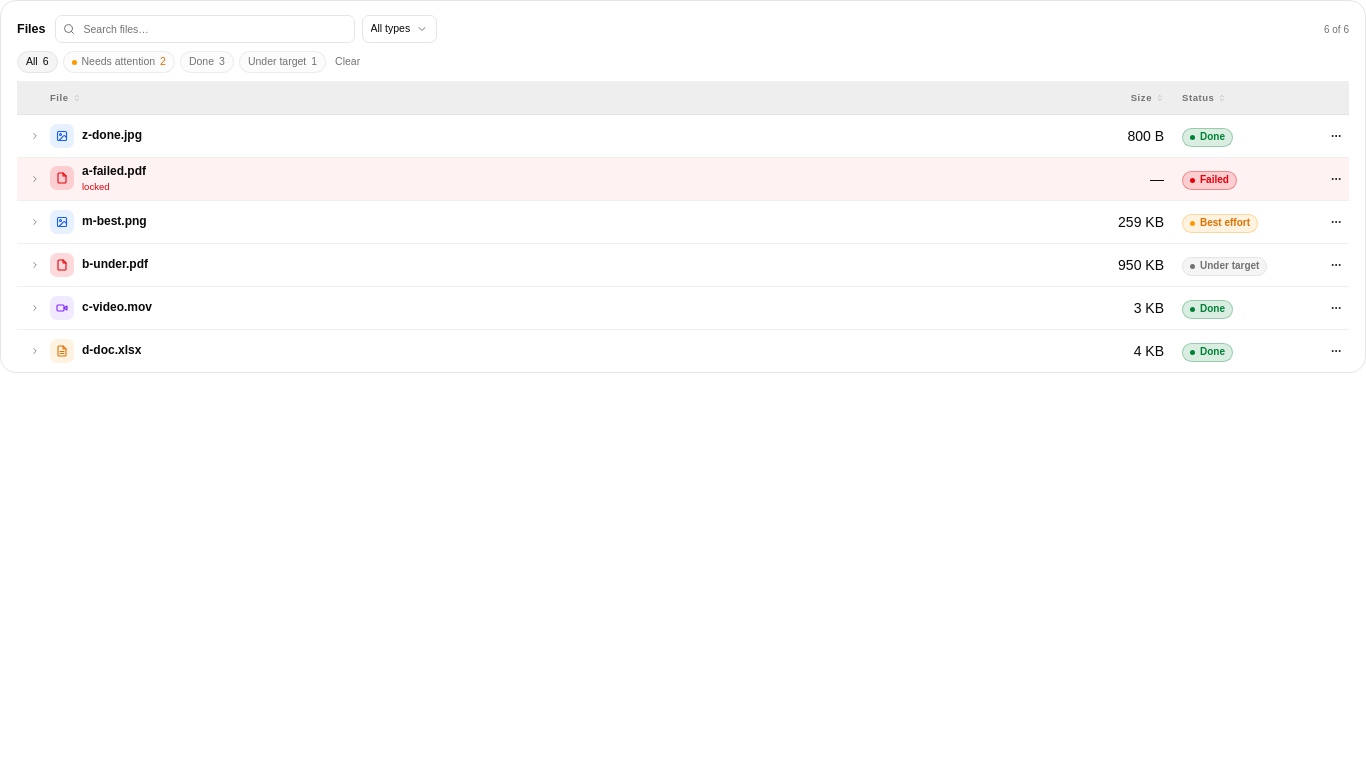
it: HistoryFilesTable › keeps failed reveal in the row menu and disables compressed in the detail footer
Click the button named "File actions" in the row of "a-failed.pdf": (1336,178) 1324,166 -> 1348,190
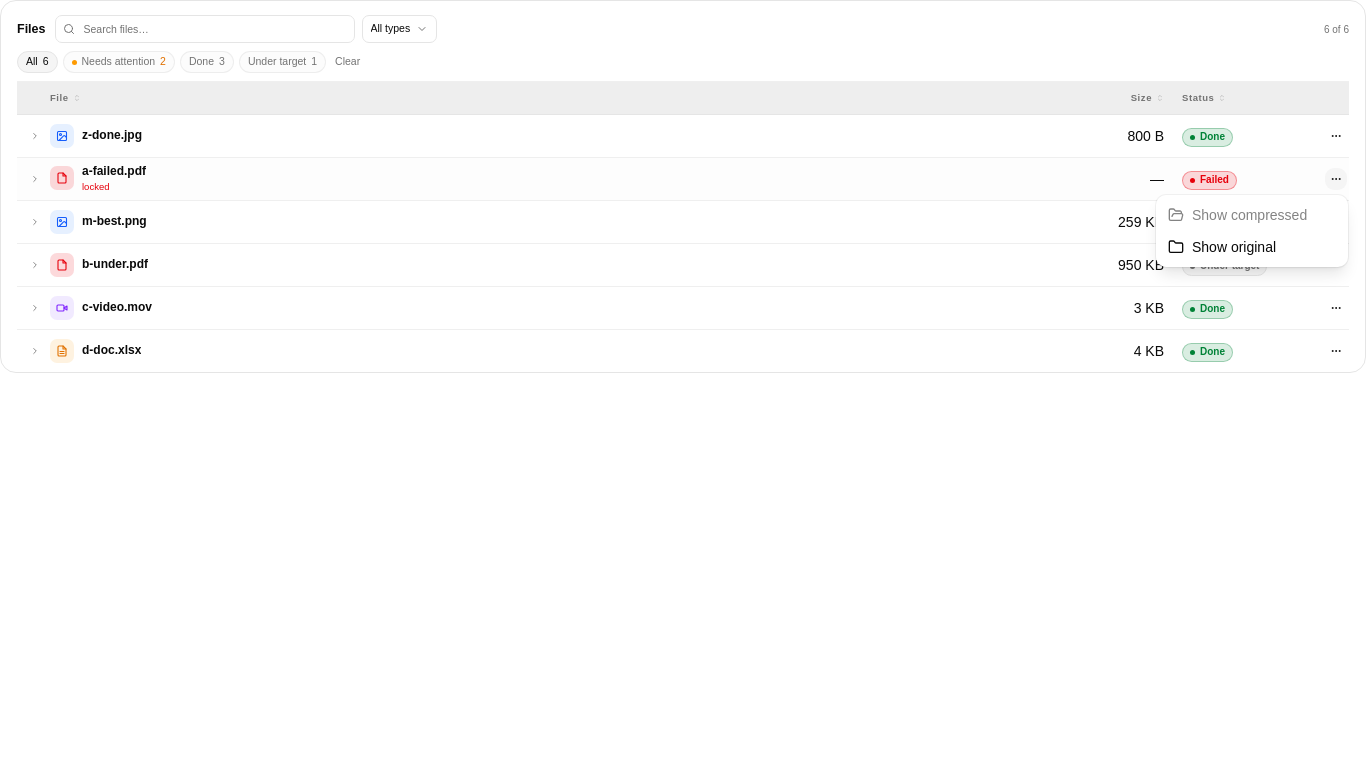
Click the menu item "Show original": (1222,247) 1168,239 -> 1276,255
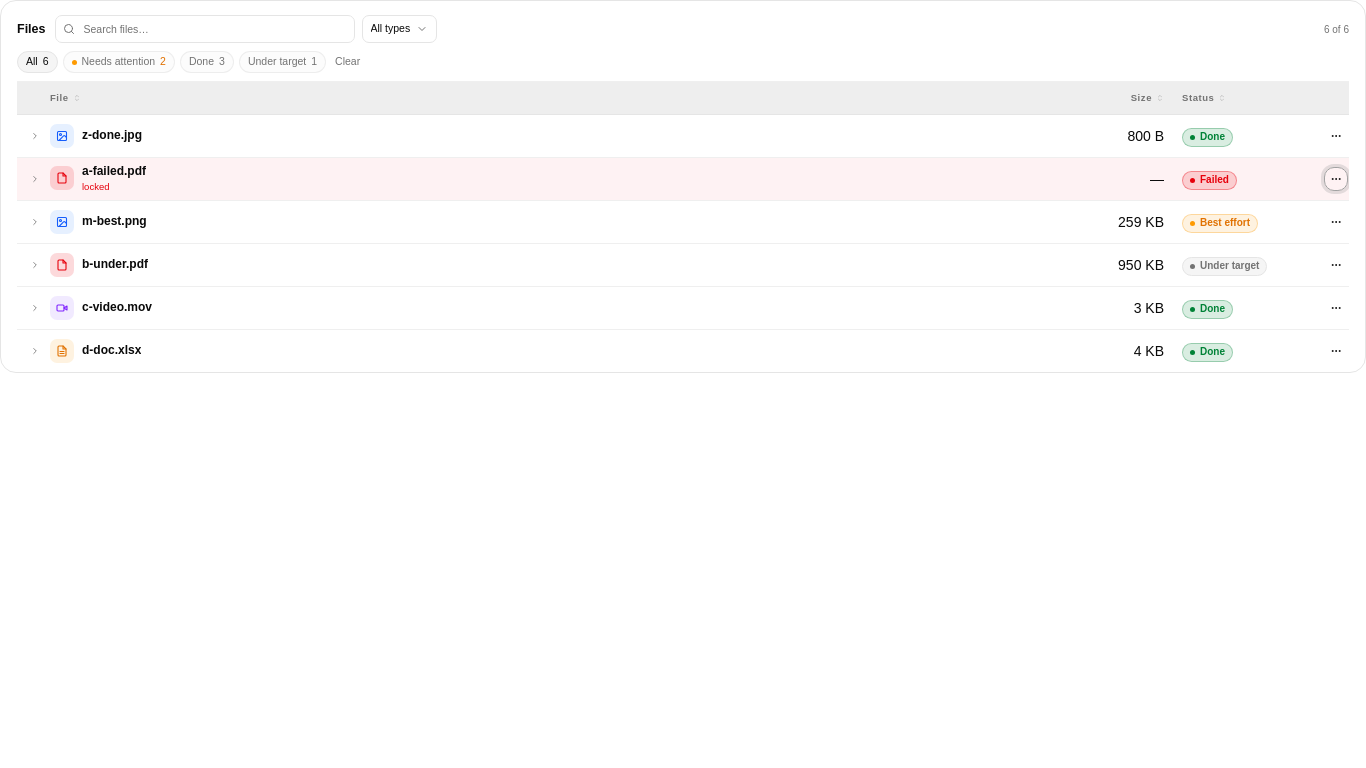
Click the button named "Expand a-failed.pdf": (34,178) 26,170 -> 43,187
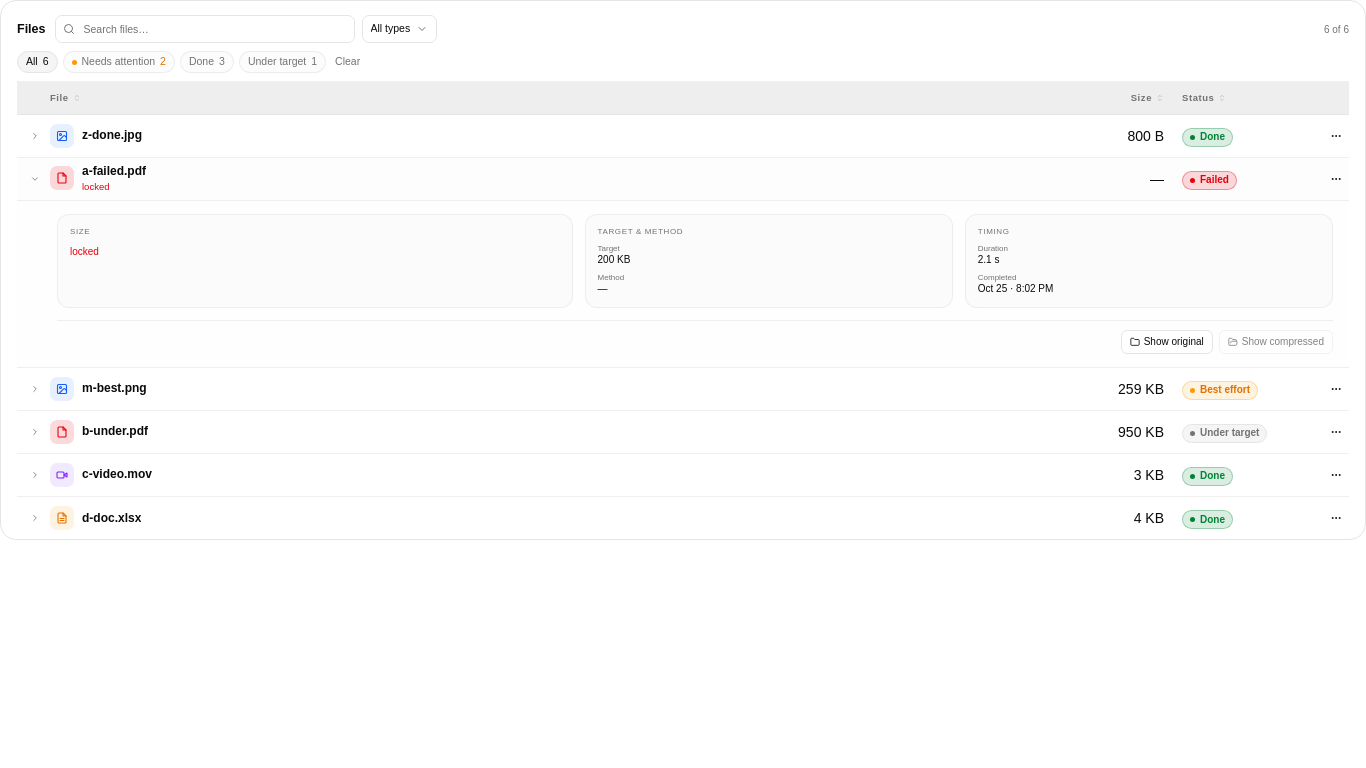
Expected: the button "Show compressed" is disabled, 1219,330 -> 1333,354
